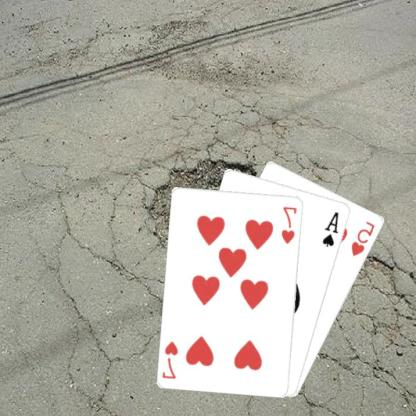5H: (350, 218, 378, 258)
7H: (161, 338, 182, 380), (280, 204, 300, 246)
AS: (322, 209, 342, 248)
